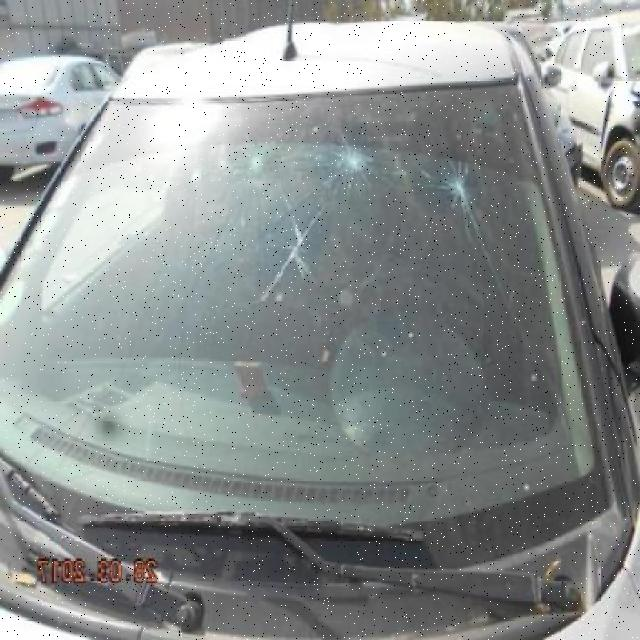damage: (330, 139, 373, 181), (237, 137, 275, 179), (444, 167, 474, 204)
